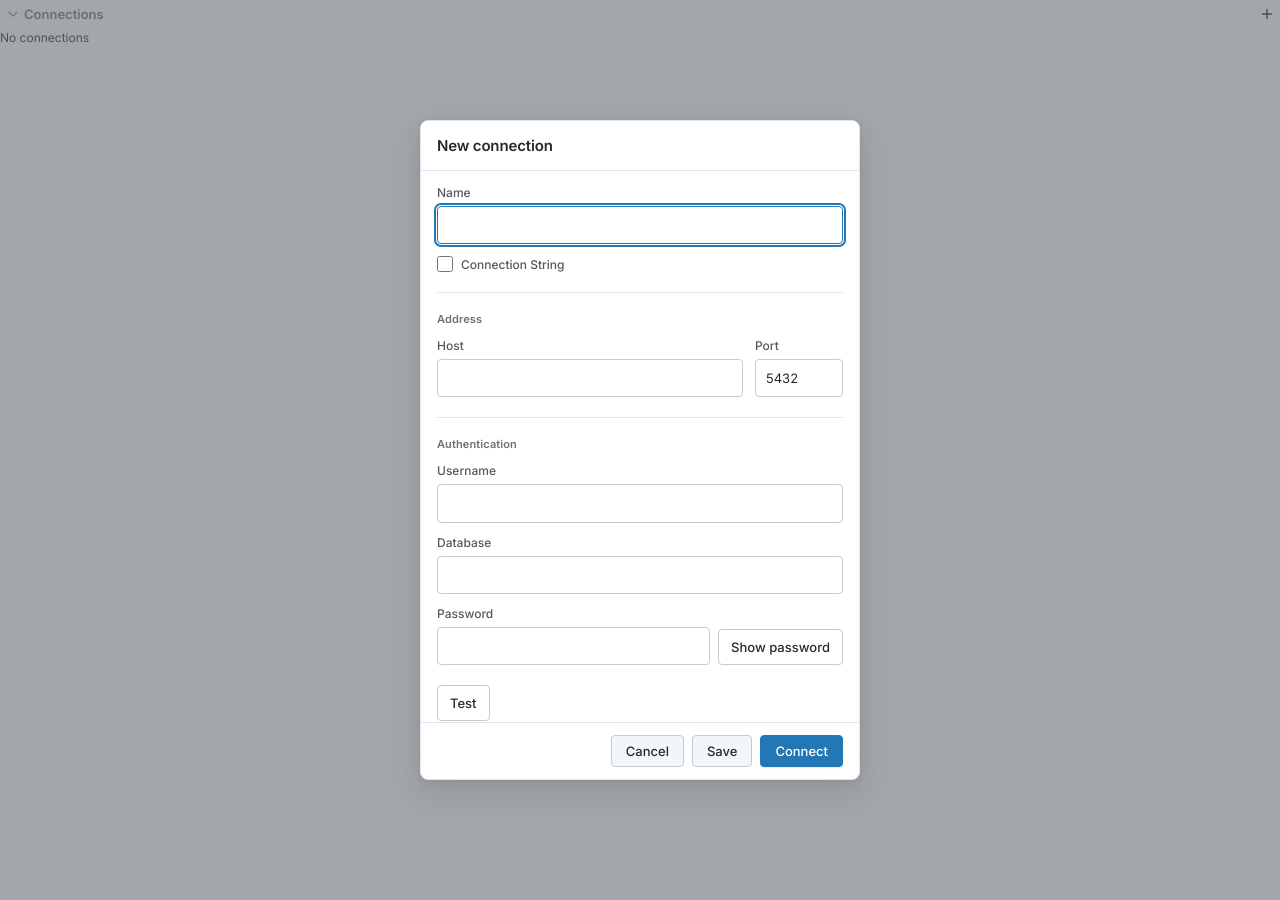
ConnectionPanel Save-then-Connect › Save in Connection String mode parses URI into host/user/database and keeps password in secrets
Click the checkbox labelled "Connection String" at x=445, y=264, box left=437, top=256, right=453, bottom=272
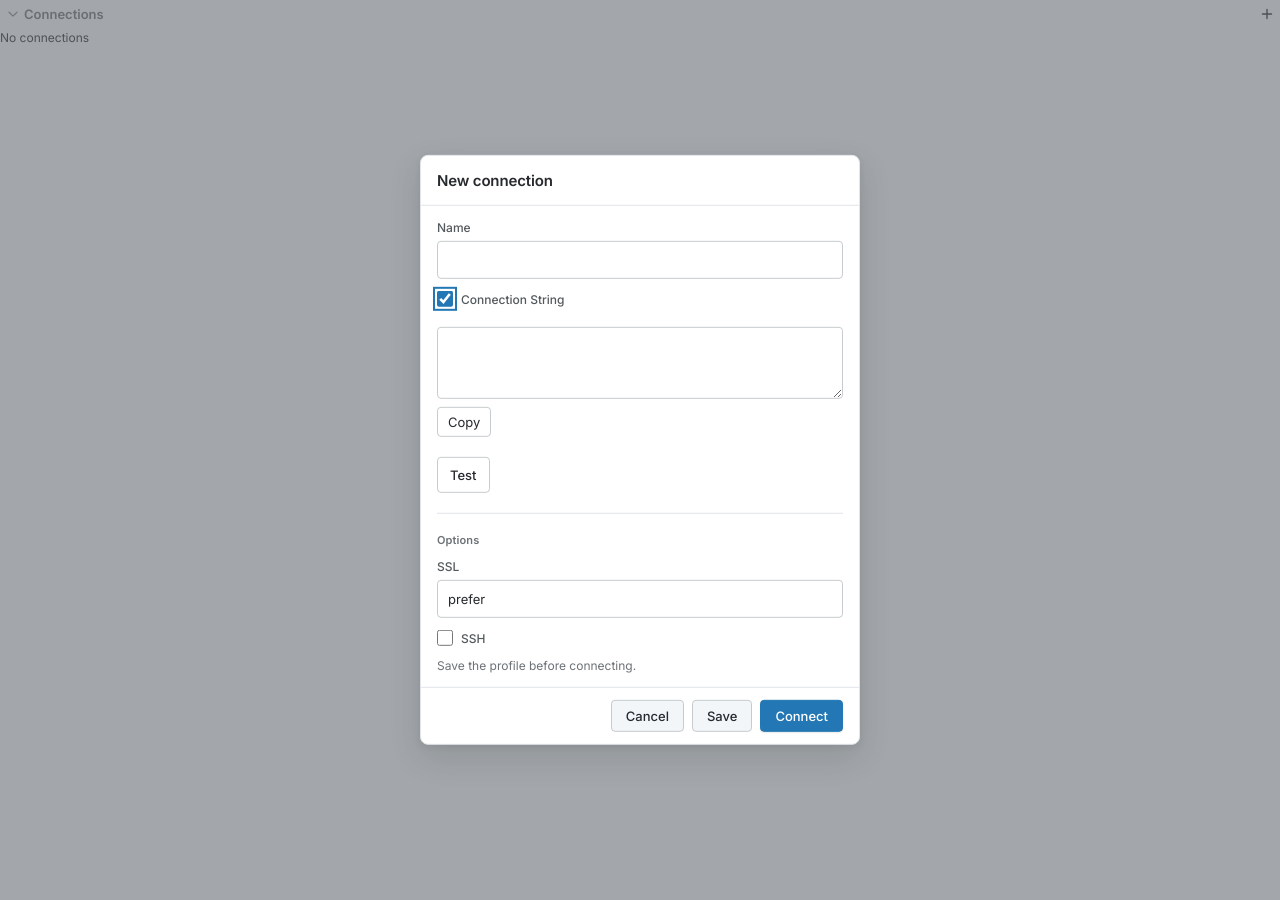
Type "postgres://alice:s3cret@localhost:5432/app" into the text box with test id "connection.connectionStringField" at x=640, y=363, box left=437, top=327, right=843, bottom=399
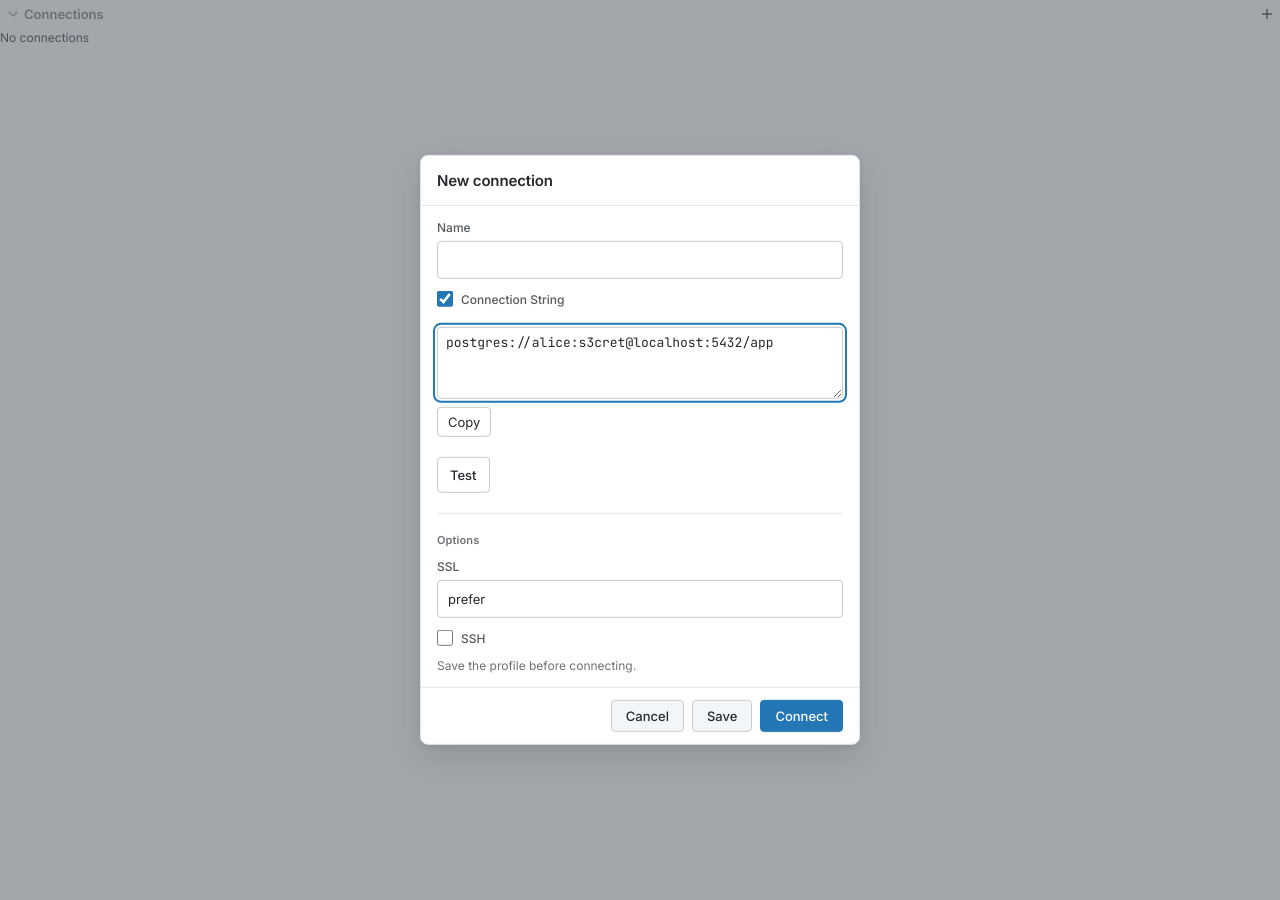
Click the button "Save" at x=722, y=716, box left=692, top=700, right=752, bottom=732
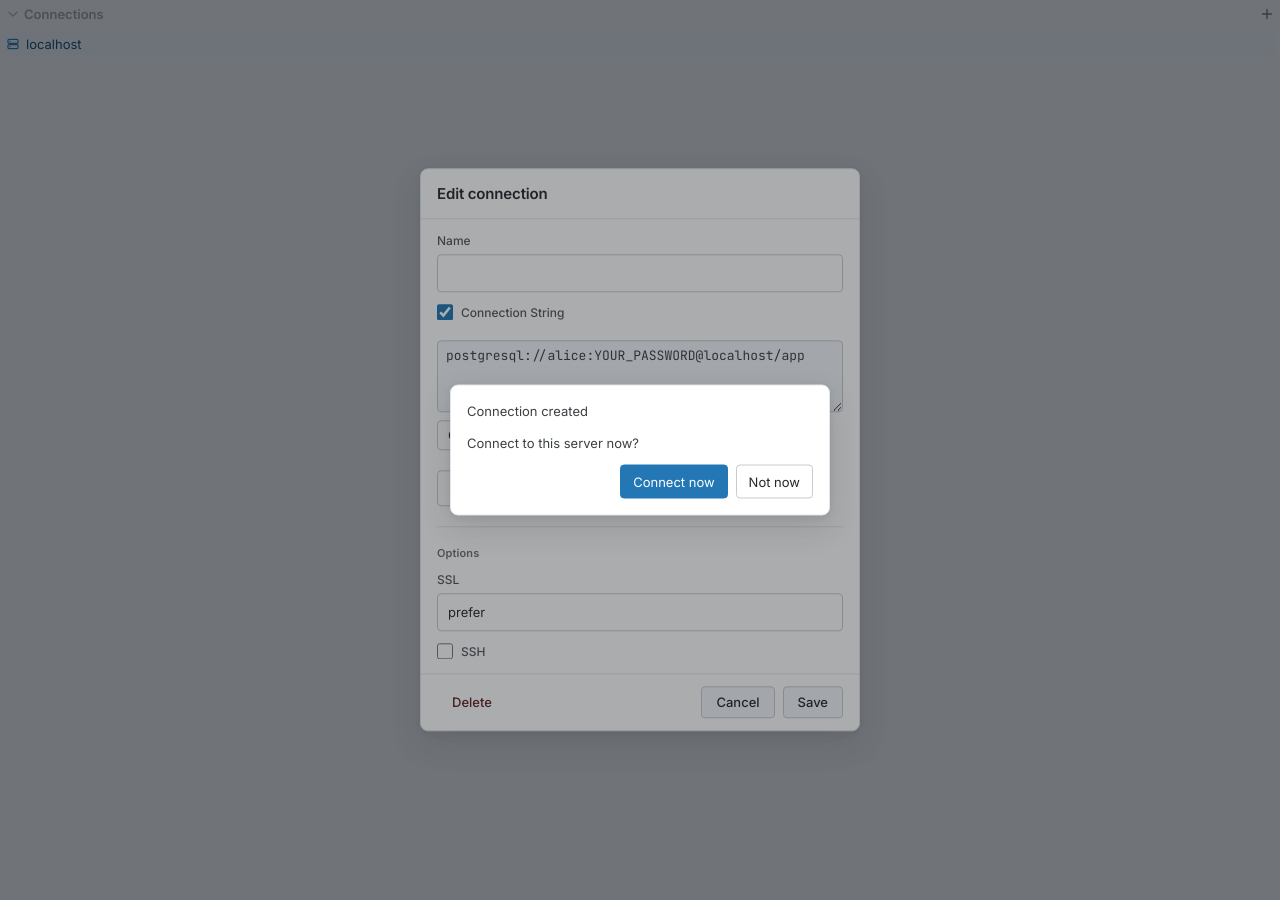
expect the text "localhost" is shown: met, box left=26, top=36, right=82, bottom=52
